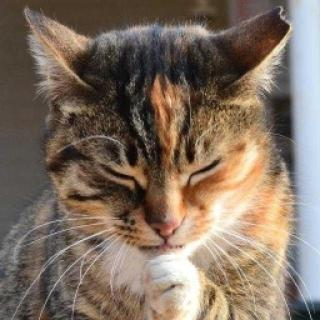cat: (20, 1, 283, 266)
nose: (142, 182, 188, 244)
